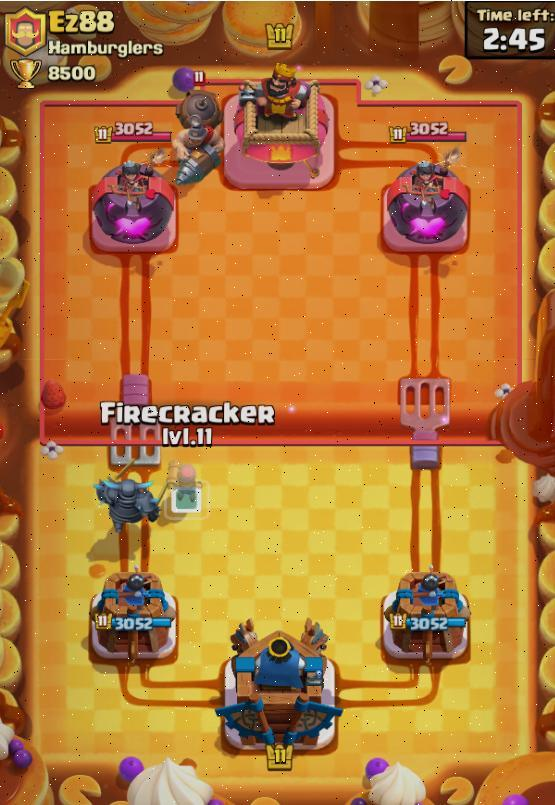EKingTower: (223, 64, 334, 190)
EMightyMiner: (174, 90, 222, 185)
EnemyPrincessTower: (382, 161, 469, 253), (90, 161, 175, 253)
OBigPekka: (95, 473, 159, 532)
OFirecrack: (161, 464, 202, 519)
OwnKingTower: (216, 619, 341, 750)
OwnPrincessTower: (382, 570, 470, 661), (89, 572, 175, 662)
